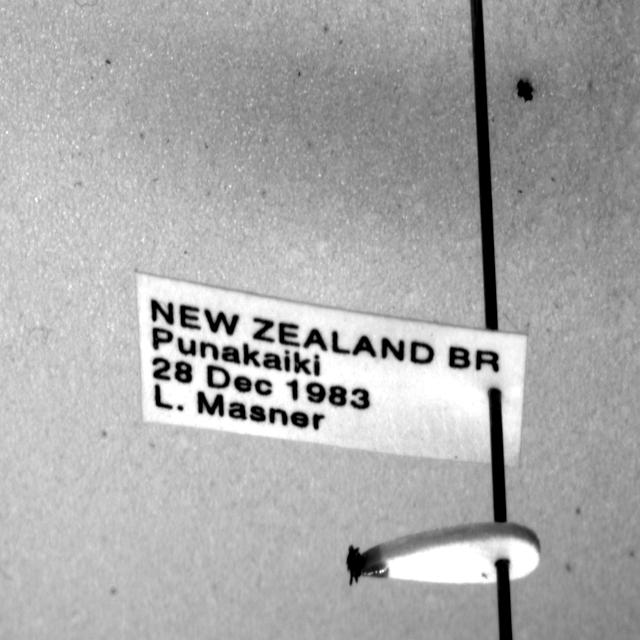typed_label: (136, 274, 526, 465)
